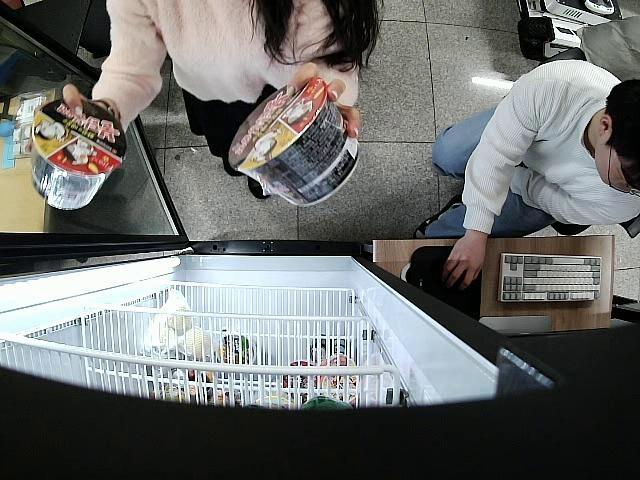07_buldak_L: (228, 76, 356, 207), (30, 97, 126, 212)
